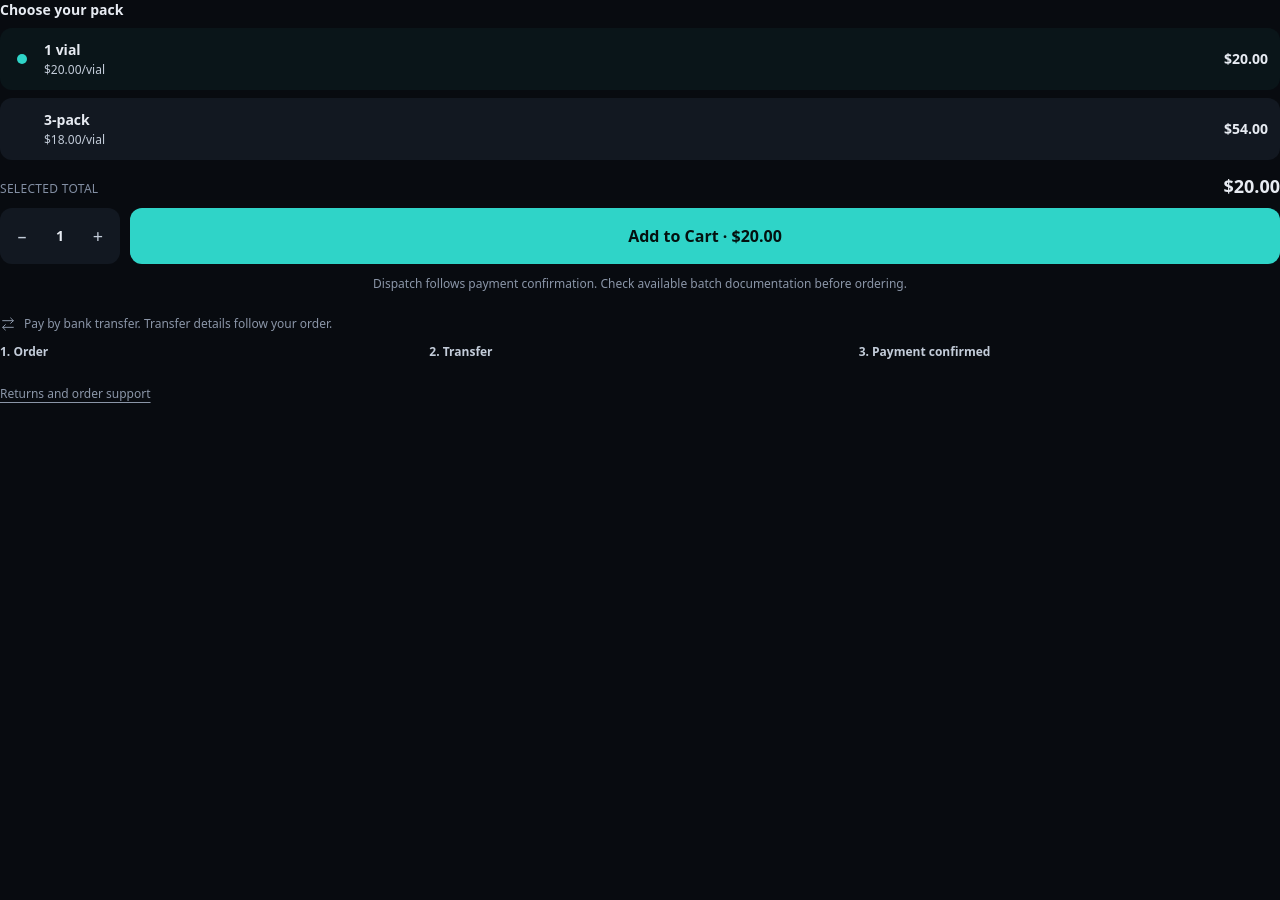
Scenario: adds the selected pack from the scrolled action and suppresses it while the cart is open
Click the radio button labelled "3-pack $18.00/vial $54.00". click: {"x": 67, "y": 120}
box: [0, 98, 1279, 160]
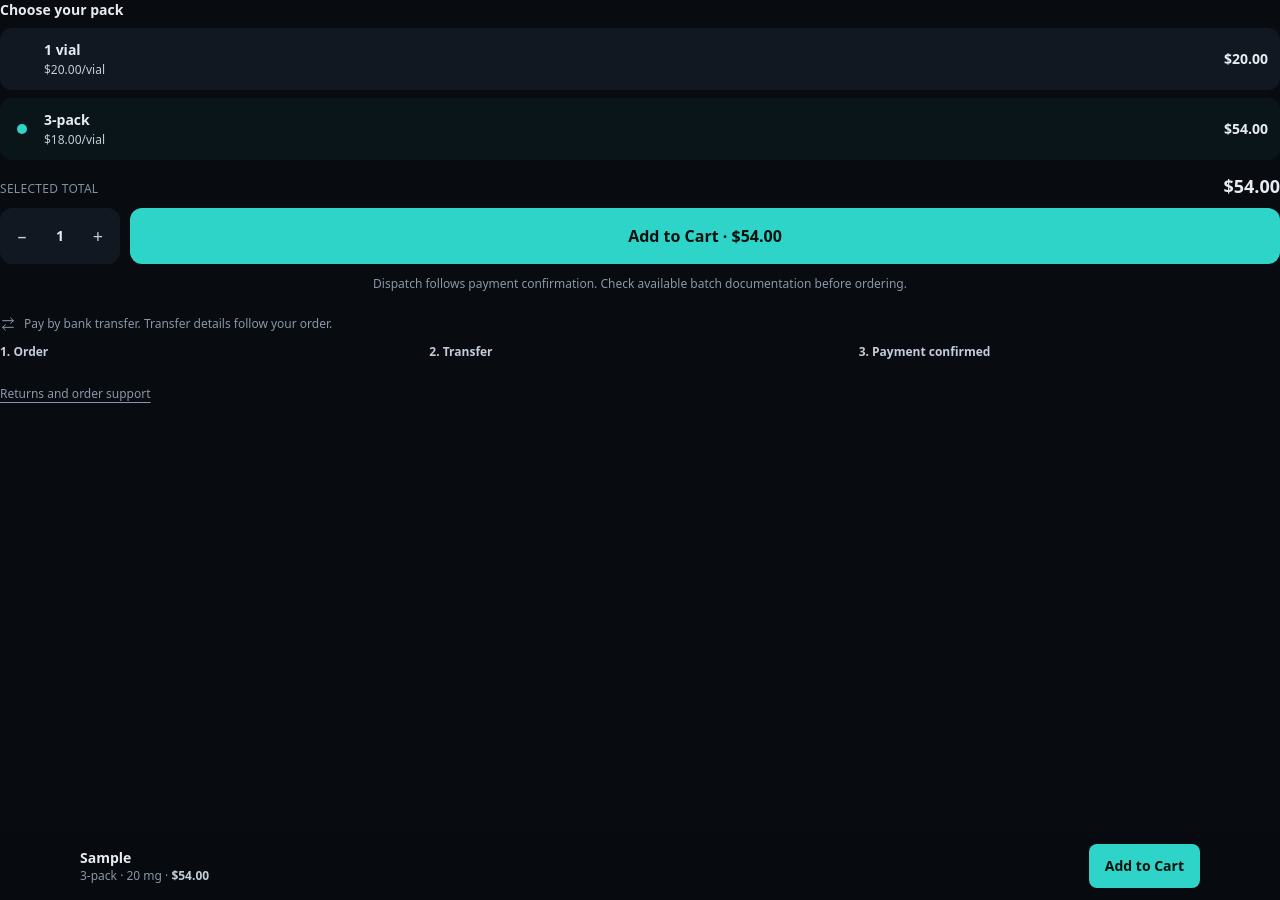
Now the element named "Quick purchase" shows "3-pack · 20 mg", box [80, 867, 162, 884]
Now the element named "Quick purchase" shows "$54.00", box [171, 867, 209, 884]
Click the button "Add to Cart". click: {"x": 1144, "y": 866}
box: [1089, 844, 1200, 888]
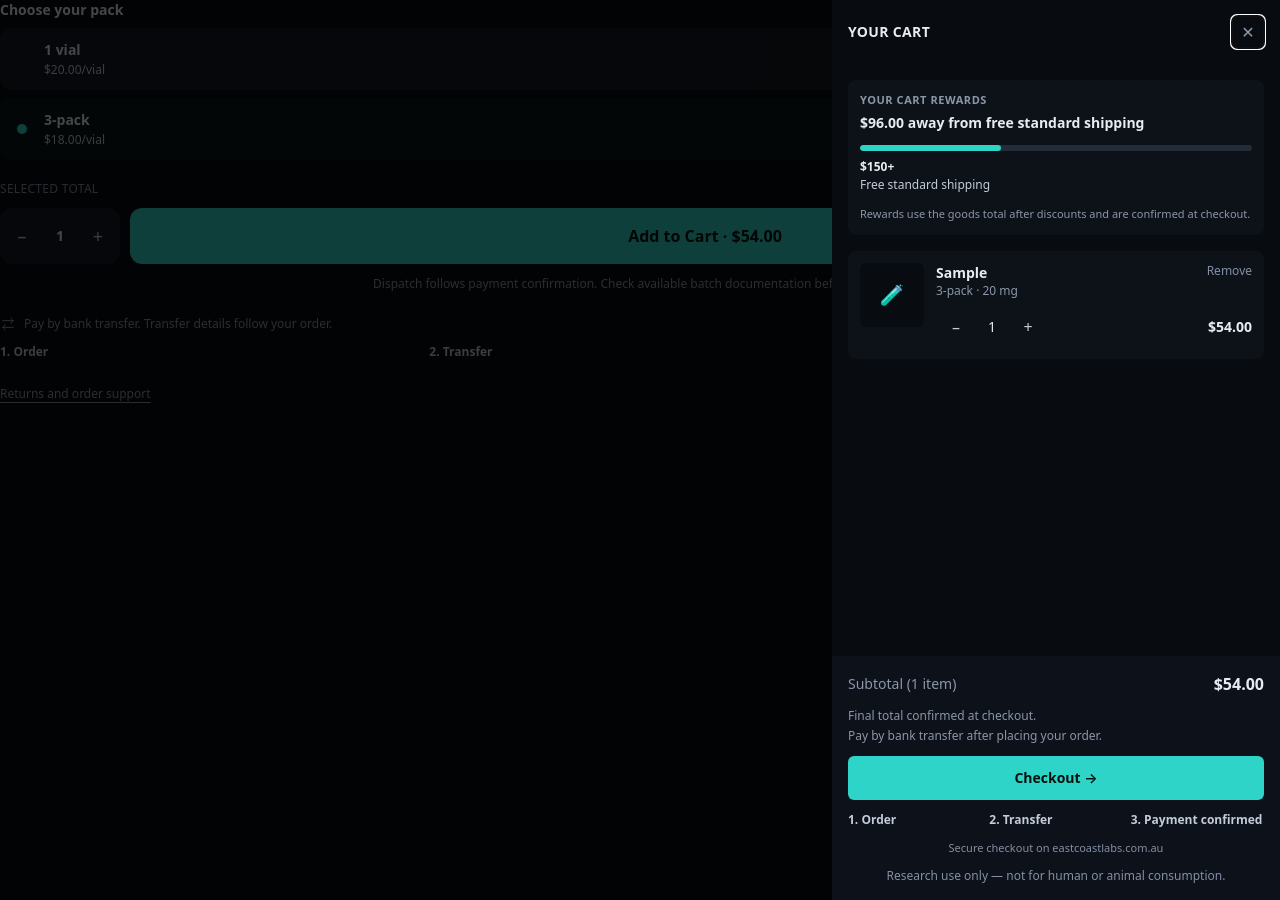
Now the dialog named "Shopping cart" shows "3-pack · 20 mg", box [936, 282, 1018, 299]
